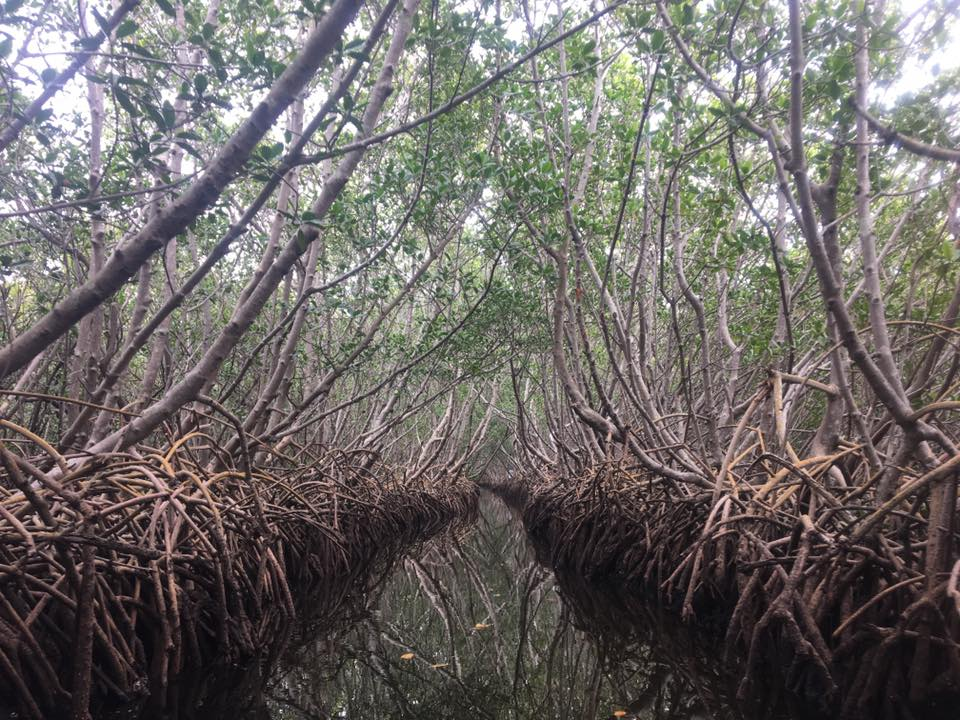tree: (352, 29, 499, 479)
water: (205, 625, 723, 715), (307, 568, 575, 634), (413, 540, 530, 578), (482, 493, 508, 582)
